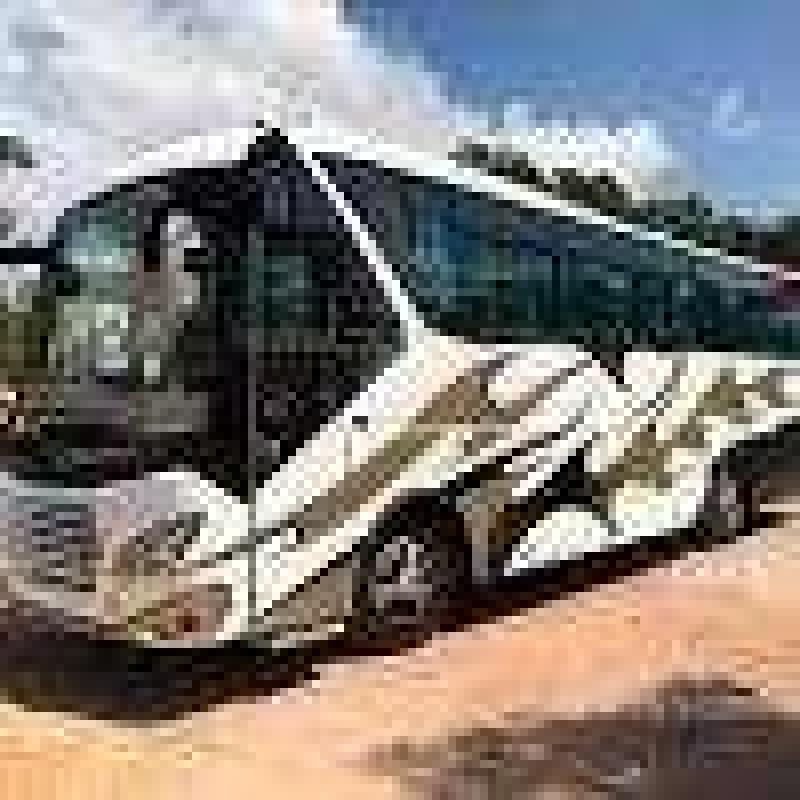bus: (0, 88, 800, 664)
